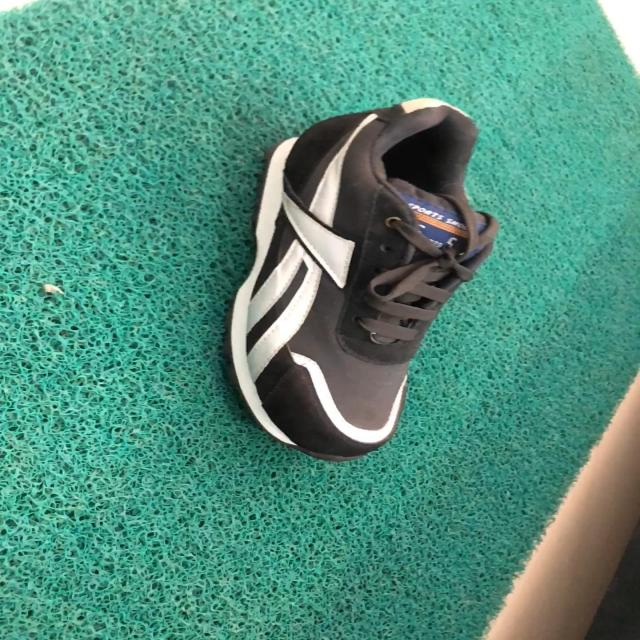shoe: (229, 99, 500, 464)
